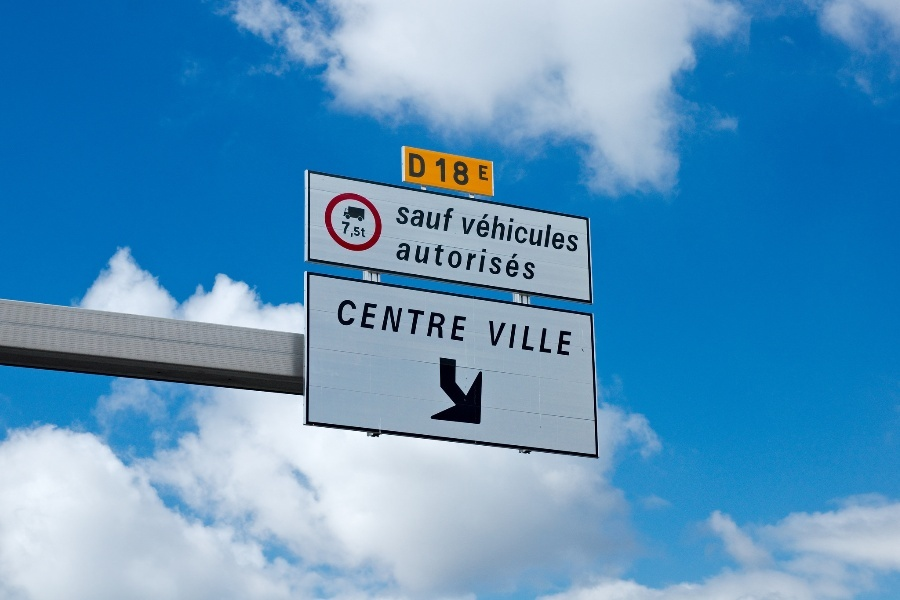text: (465, 208, 480, 254), (481, 208, 496, 254), (497, 208, 512, 254), (513, 208, 528, 254), (529, 208, 544, 254), (545, 208, 560, 254), (561, 208, 576, 254), (401, 237, 416, 283), (417, 237, 432, 283), (433, 237, 448, 283), (449, 237, 464, 283), (465, 237, 480, 283), (481, 237, 496, 283), (497, 237, 512, 283), (513, 237, 528, 283), (353, 299, 368, 343), (369, 299, 384, 343), (385, 299, 400, 343), (401, 299, 416, 343), (417, 299, 432, 343), (433, 299, 448, 343), (449, 299, 464, 343), (339, 299, 352, 343), (497, 319, 512, 357), (513, 319, 528, 357), (529, 319, 544, 357), (545, 319, 560, 357), (449, 156, 464, 187), (401, 202, 416, 233), (417, 202, 432, 233), (433, 202, 448, 233), (561, 319, 573, 357), (435, 156, 448, 187), (529, 237, 537, 283), (488, 319, 496, 357), (406, 149, 416, 179), (353, 219, 366, 241), (417, 149, 426, 179), (340, 219, 352, 241), (449, 202, 455, 233), (577, 208, 581, 254), (481, 164, 490, 182), (465, 156, 470, 187), (465, 299, 468, 343), (397, 202, 400, 233), (462, 208, 464, 254), (399, 237, 400, 283), (478, 164, 480, 182)
